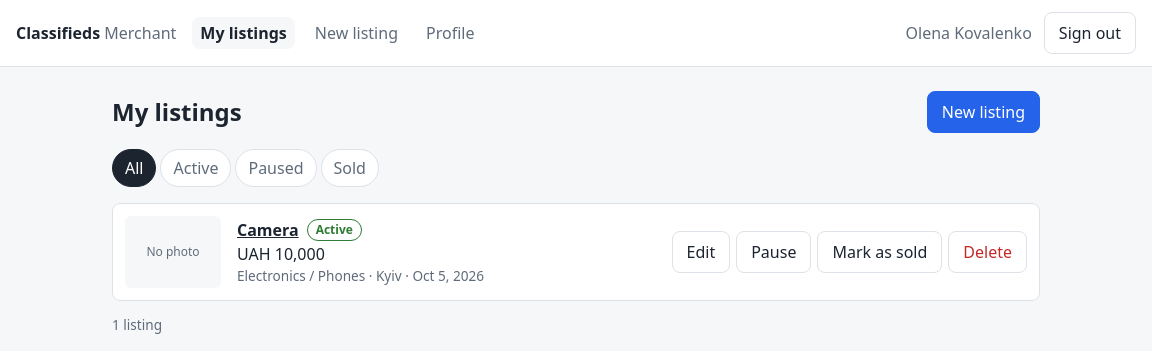
Test: my listings page › pauses and reactivates a listing
Expected: the list item "Camera" is shown, x1=112 y1=203 x2=1040 y2=301
Click the button "Pause": (774,252) x1=736 y1=231 x2=811 y2=273
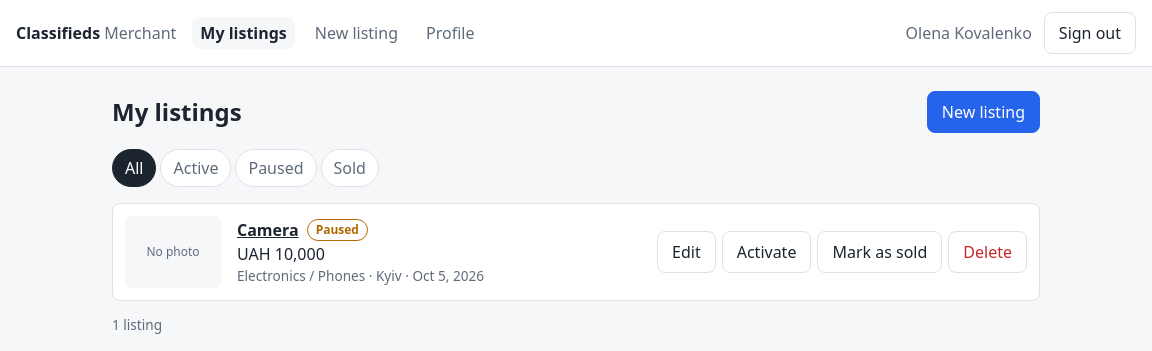
Expected: the text "Paused" is shown, x1=307 y1=219 x2=368 y2=241
Click the button "Activate": (767,252) x1=722 y1=231 x2=811 y2=273
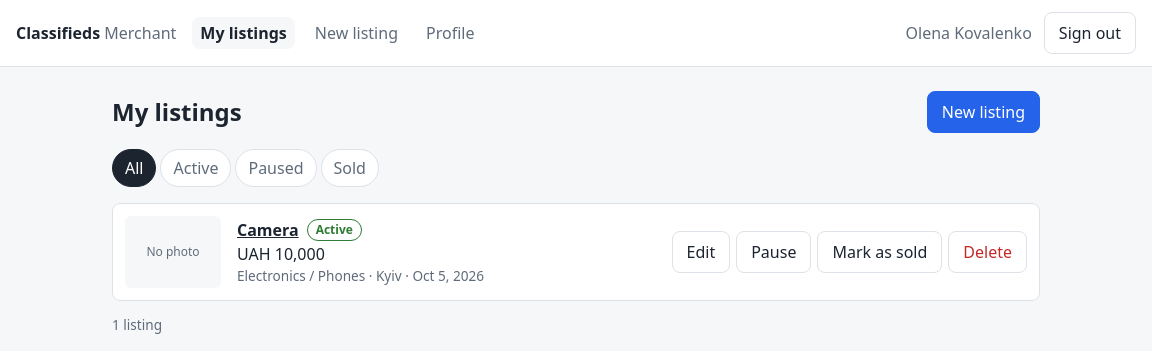
Expected: the text "Active" is shown, x1=307 y1=219 x2=362 y2=241
